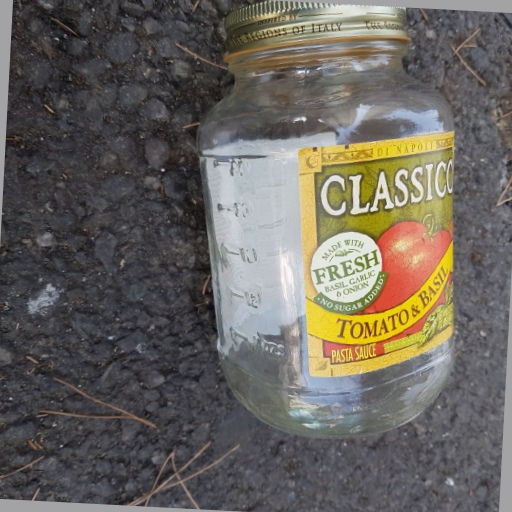Glass_5: (194, 1, 457, 441)
